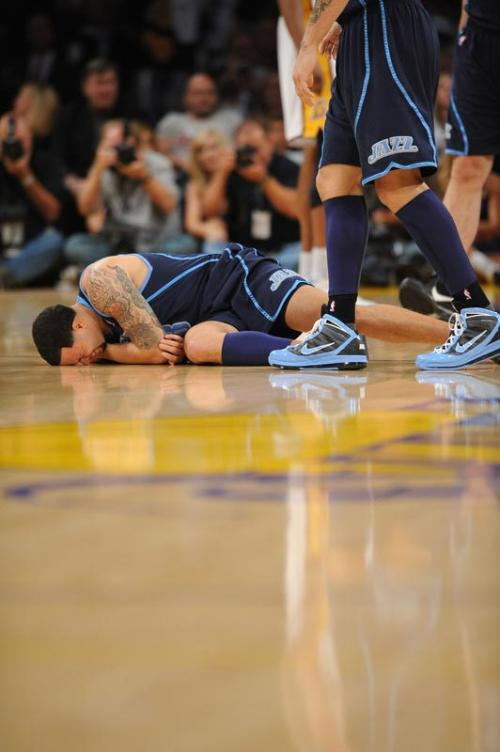10+: (1, 6, 500, 405)
down: (23, 210, 312, 392)
